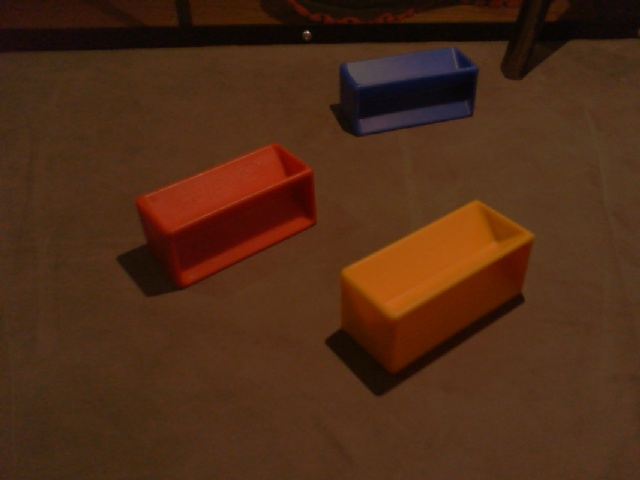BlueSample: (340, 45, 480, 137)
RedSample: (137, 141, 320, 290)
YellowSample: (329, 197, 535, 376)
